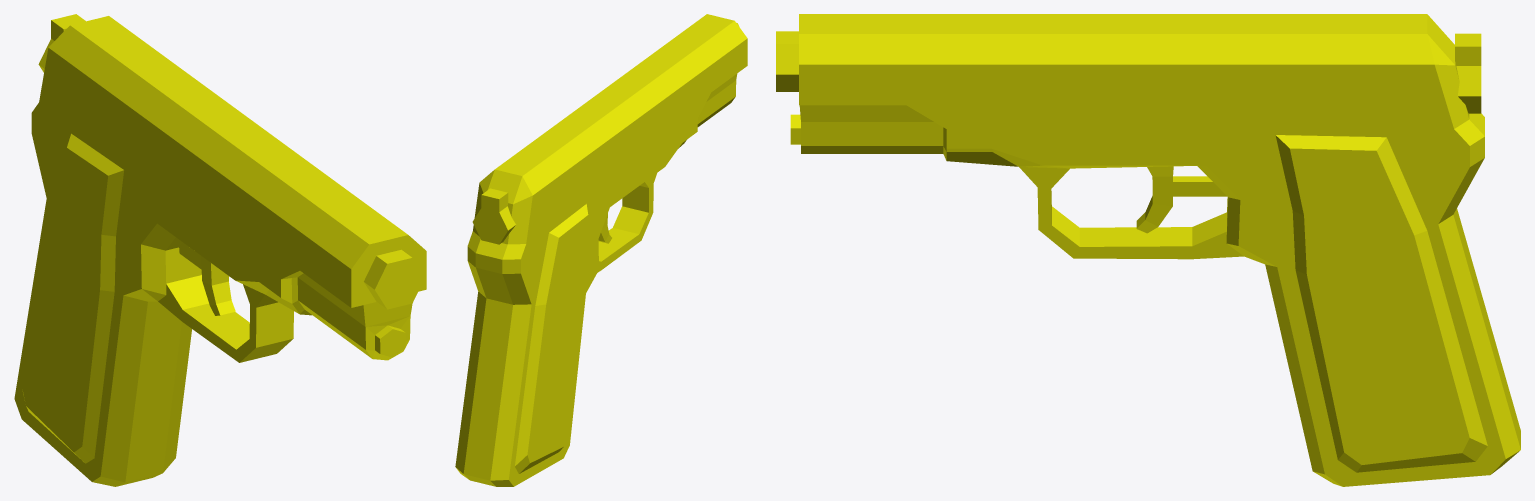
The model's file is SM_Wep_WaterPistol_01.glb.
3 renders of one model, left to right at view 1: azimuth 30°, elevation 25°; view 2: azimuth 150°, elevation 25°; view 3: azimuth 270°, elevation 25°, orthographic. The views are drawn at different scales.
Visible parts, largest first — view 1: SM_Wep_WaterPistol_01, WaterPistol_01_Trigger; view 2: SM_Wep_WaterPistol_01; view 3: SM_Wep_WaterPistol_01, WaterPistol_01_Trigger.
Part boxes in pixels (<box>): SM_Wep_WaterPistol_01: <box>14,14,426,486</box>; WaterPistol_01_Trigger: <box>179,242,235,315</box>; SM_Wep_WaterPistol_01: <box>455,14,747,486</box>; SM_Wep_WaterPistol_01: <box>776,14,1520,486</box>; WaterPistol_01_Trigger: <box>1136,166,1226,233</box>.
Bounding box in the file's own units: 0.0398 × 0.1742 × 0.2614.
1 material, 1 textured.
